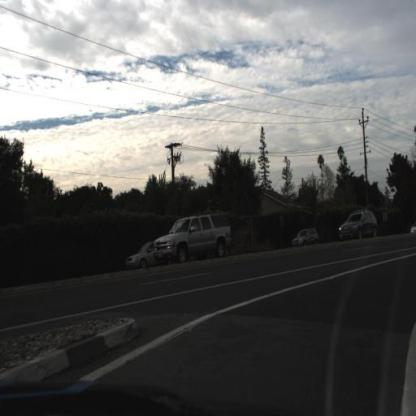car: (153, 211, 234, 265), (339, 208, 381, 246), (125, 238, 158, 269), (292, 226, 319, 253)
